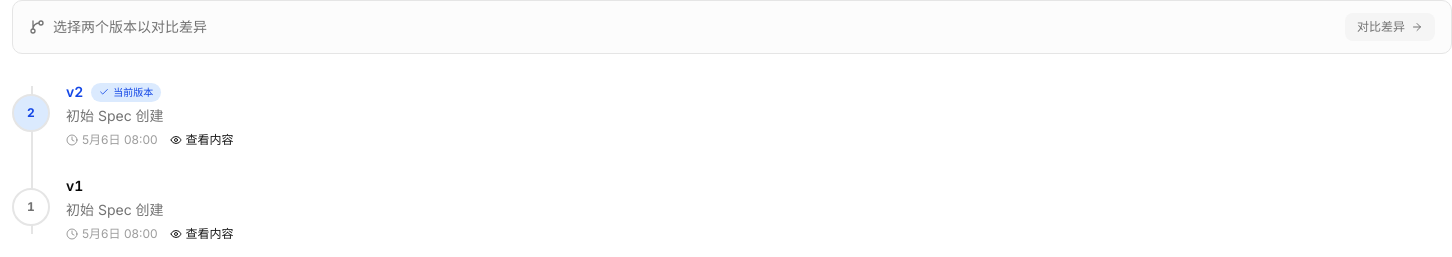
Test: VersionTimeline › Version selection › updates prompt after selecting first version
The width and height of the screenshot is (1452, 257).
Step 1. Click the button named "选择 v1" → (31, 207), box [12,188,50,226]
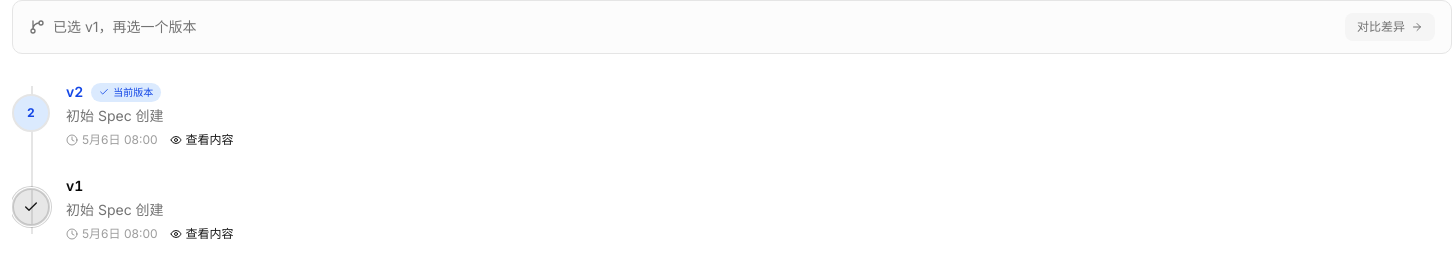
Check: the text "已选 v1，再选一个版本" is shown, box [53,17,196,37]
